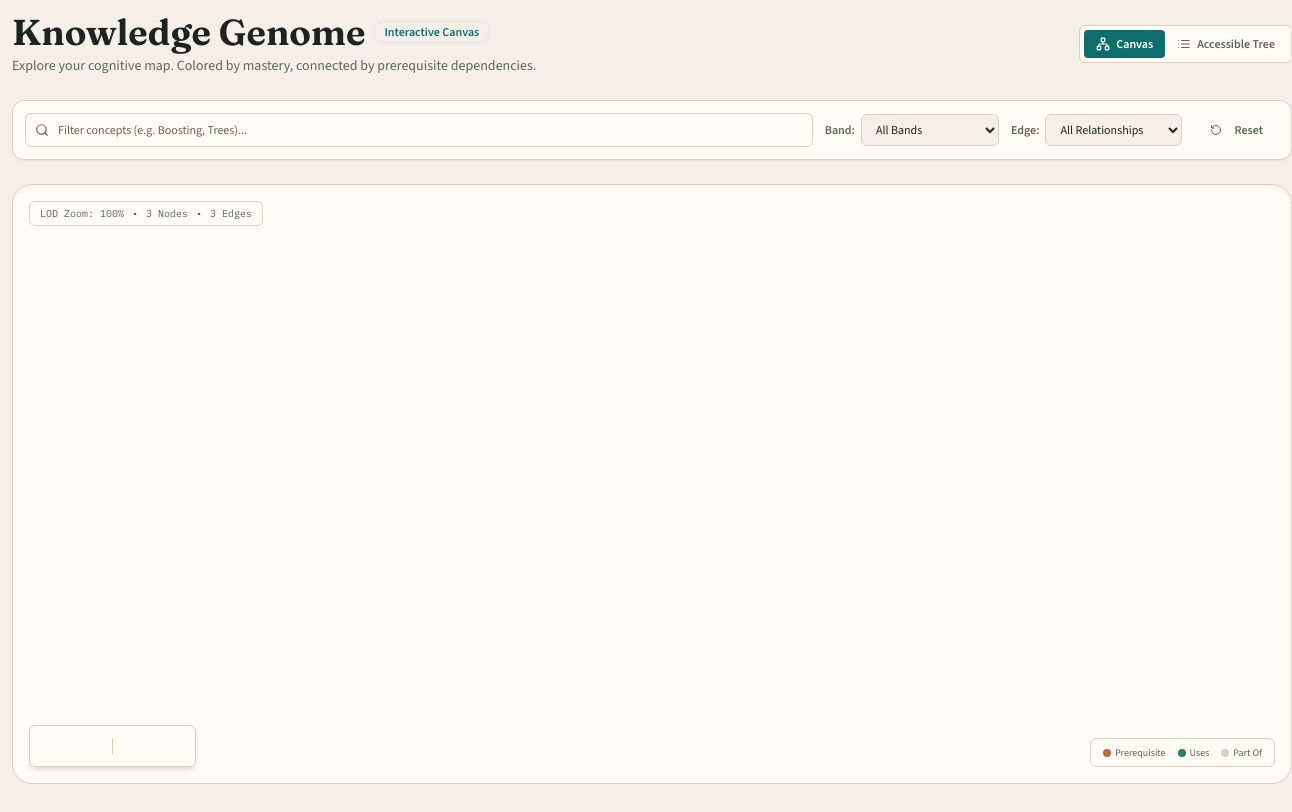
GenomeGraphPage › renders graph controls, toggles to accessible tree view, and inspects node
This screenshot has width=1292, height=812.
Expected: the heading "Knowledge Genome" is shown, [12,12,365,52]
Expected: the field with placeholder "Filter concepts (e.g. Boosting, Trees)..." is shown, [25,113,813,147]
# Toggle from Canvas to Accessible Tree View
Click the button "Accessible Tree" at [1226, 44], box [1165,30,1287,58]
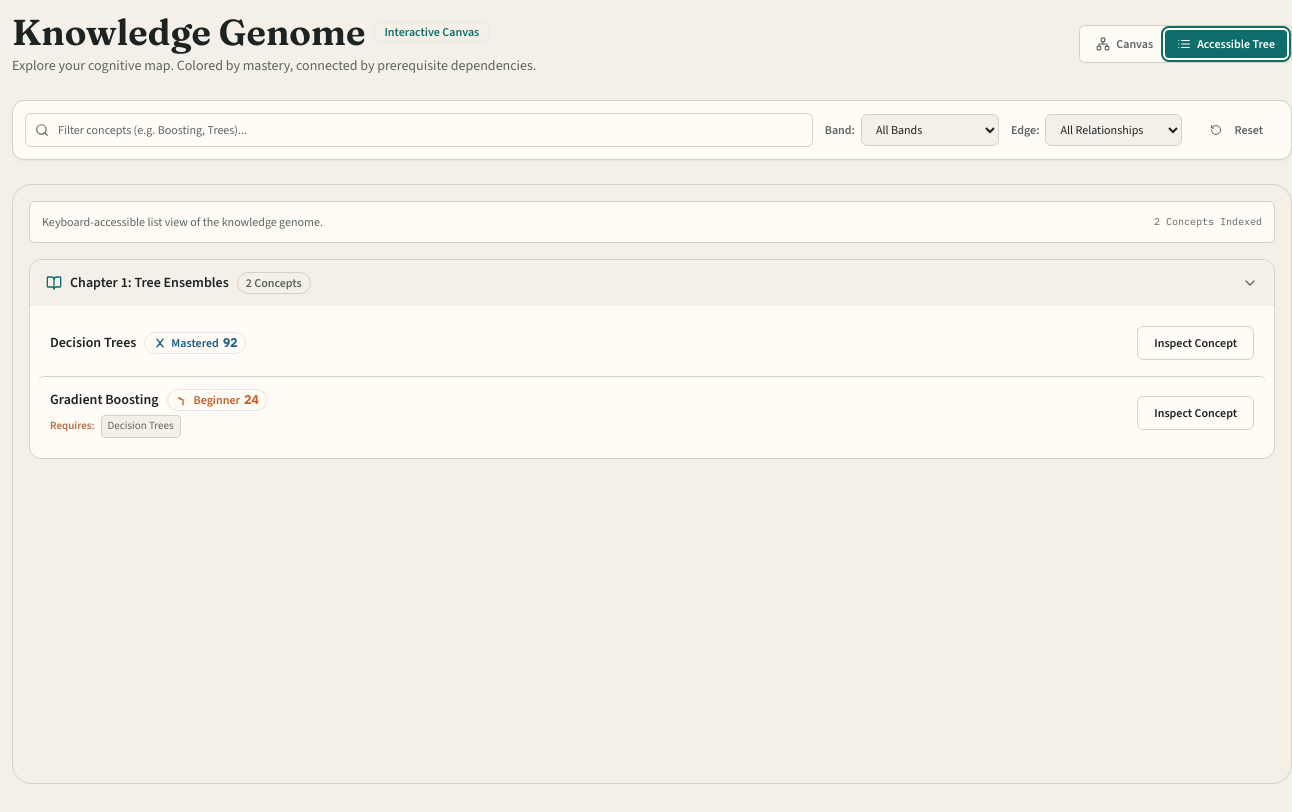
Now the text "Chapter 1: Tree Ensembles" is shown, box [70,273,229,293]
Now the text "Gradient Boosting" is shown, box [50,390,158,410]
# Select Gradient Boosting to open NodeInspector
Click the button "Inspect Concept" in the row of "Gradient Boosting" at [1196, 413], box [1137,396,1254,430]
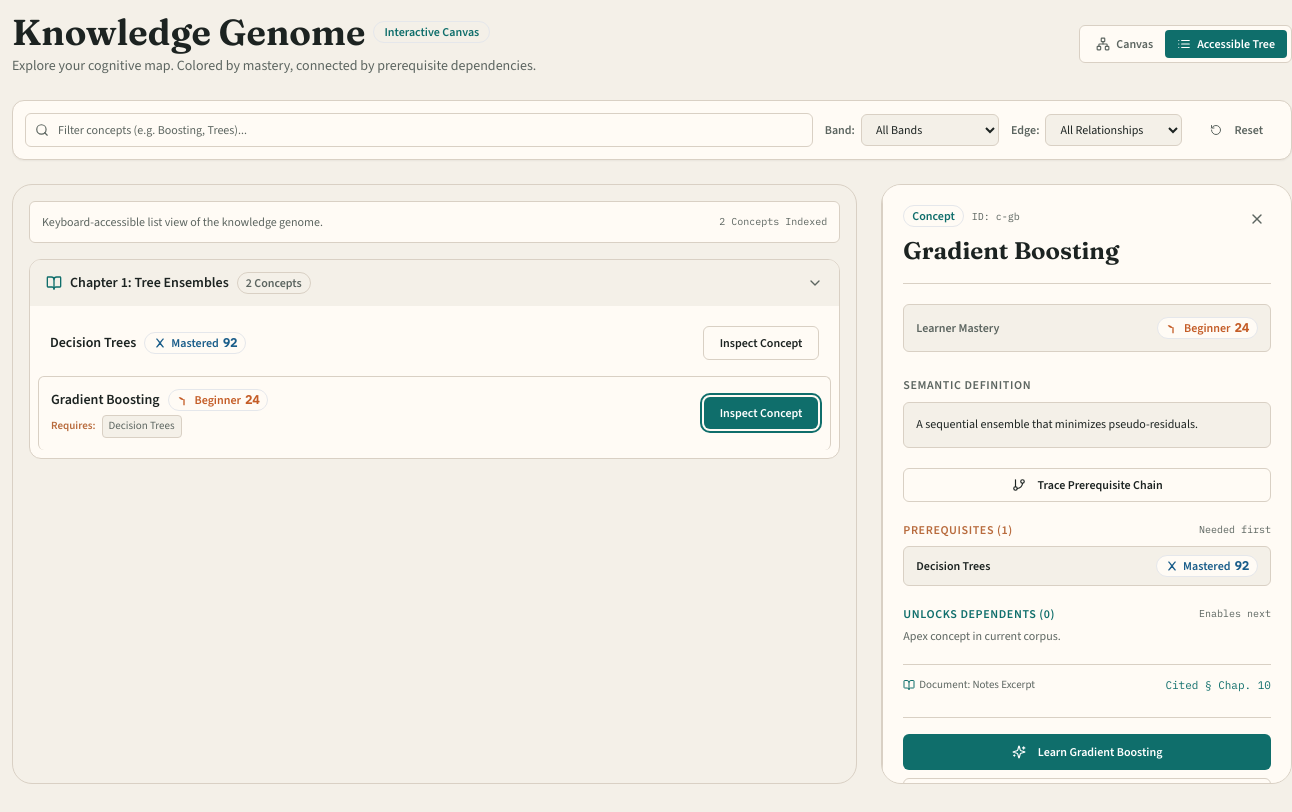
Now the text "A sequential ensemble that minimizes pseudo-residuals." is shown, box [903,402,1271,448]
Now the button "Learn Gradient Boosting" is shown, box [903,734,1271,770]
